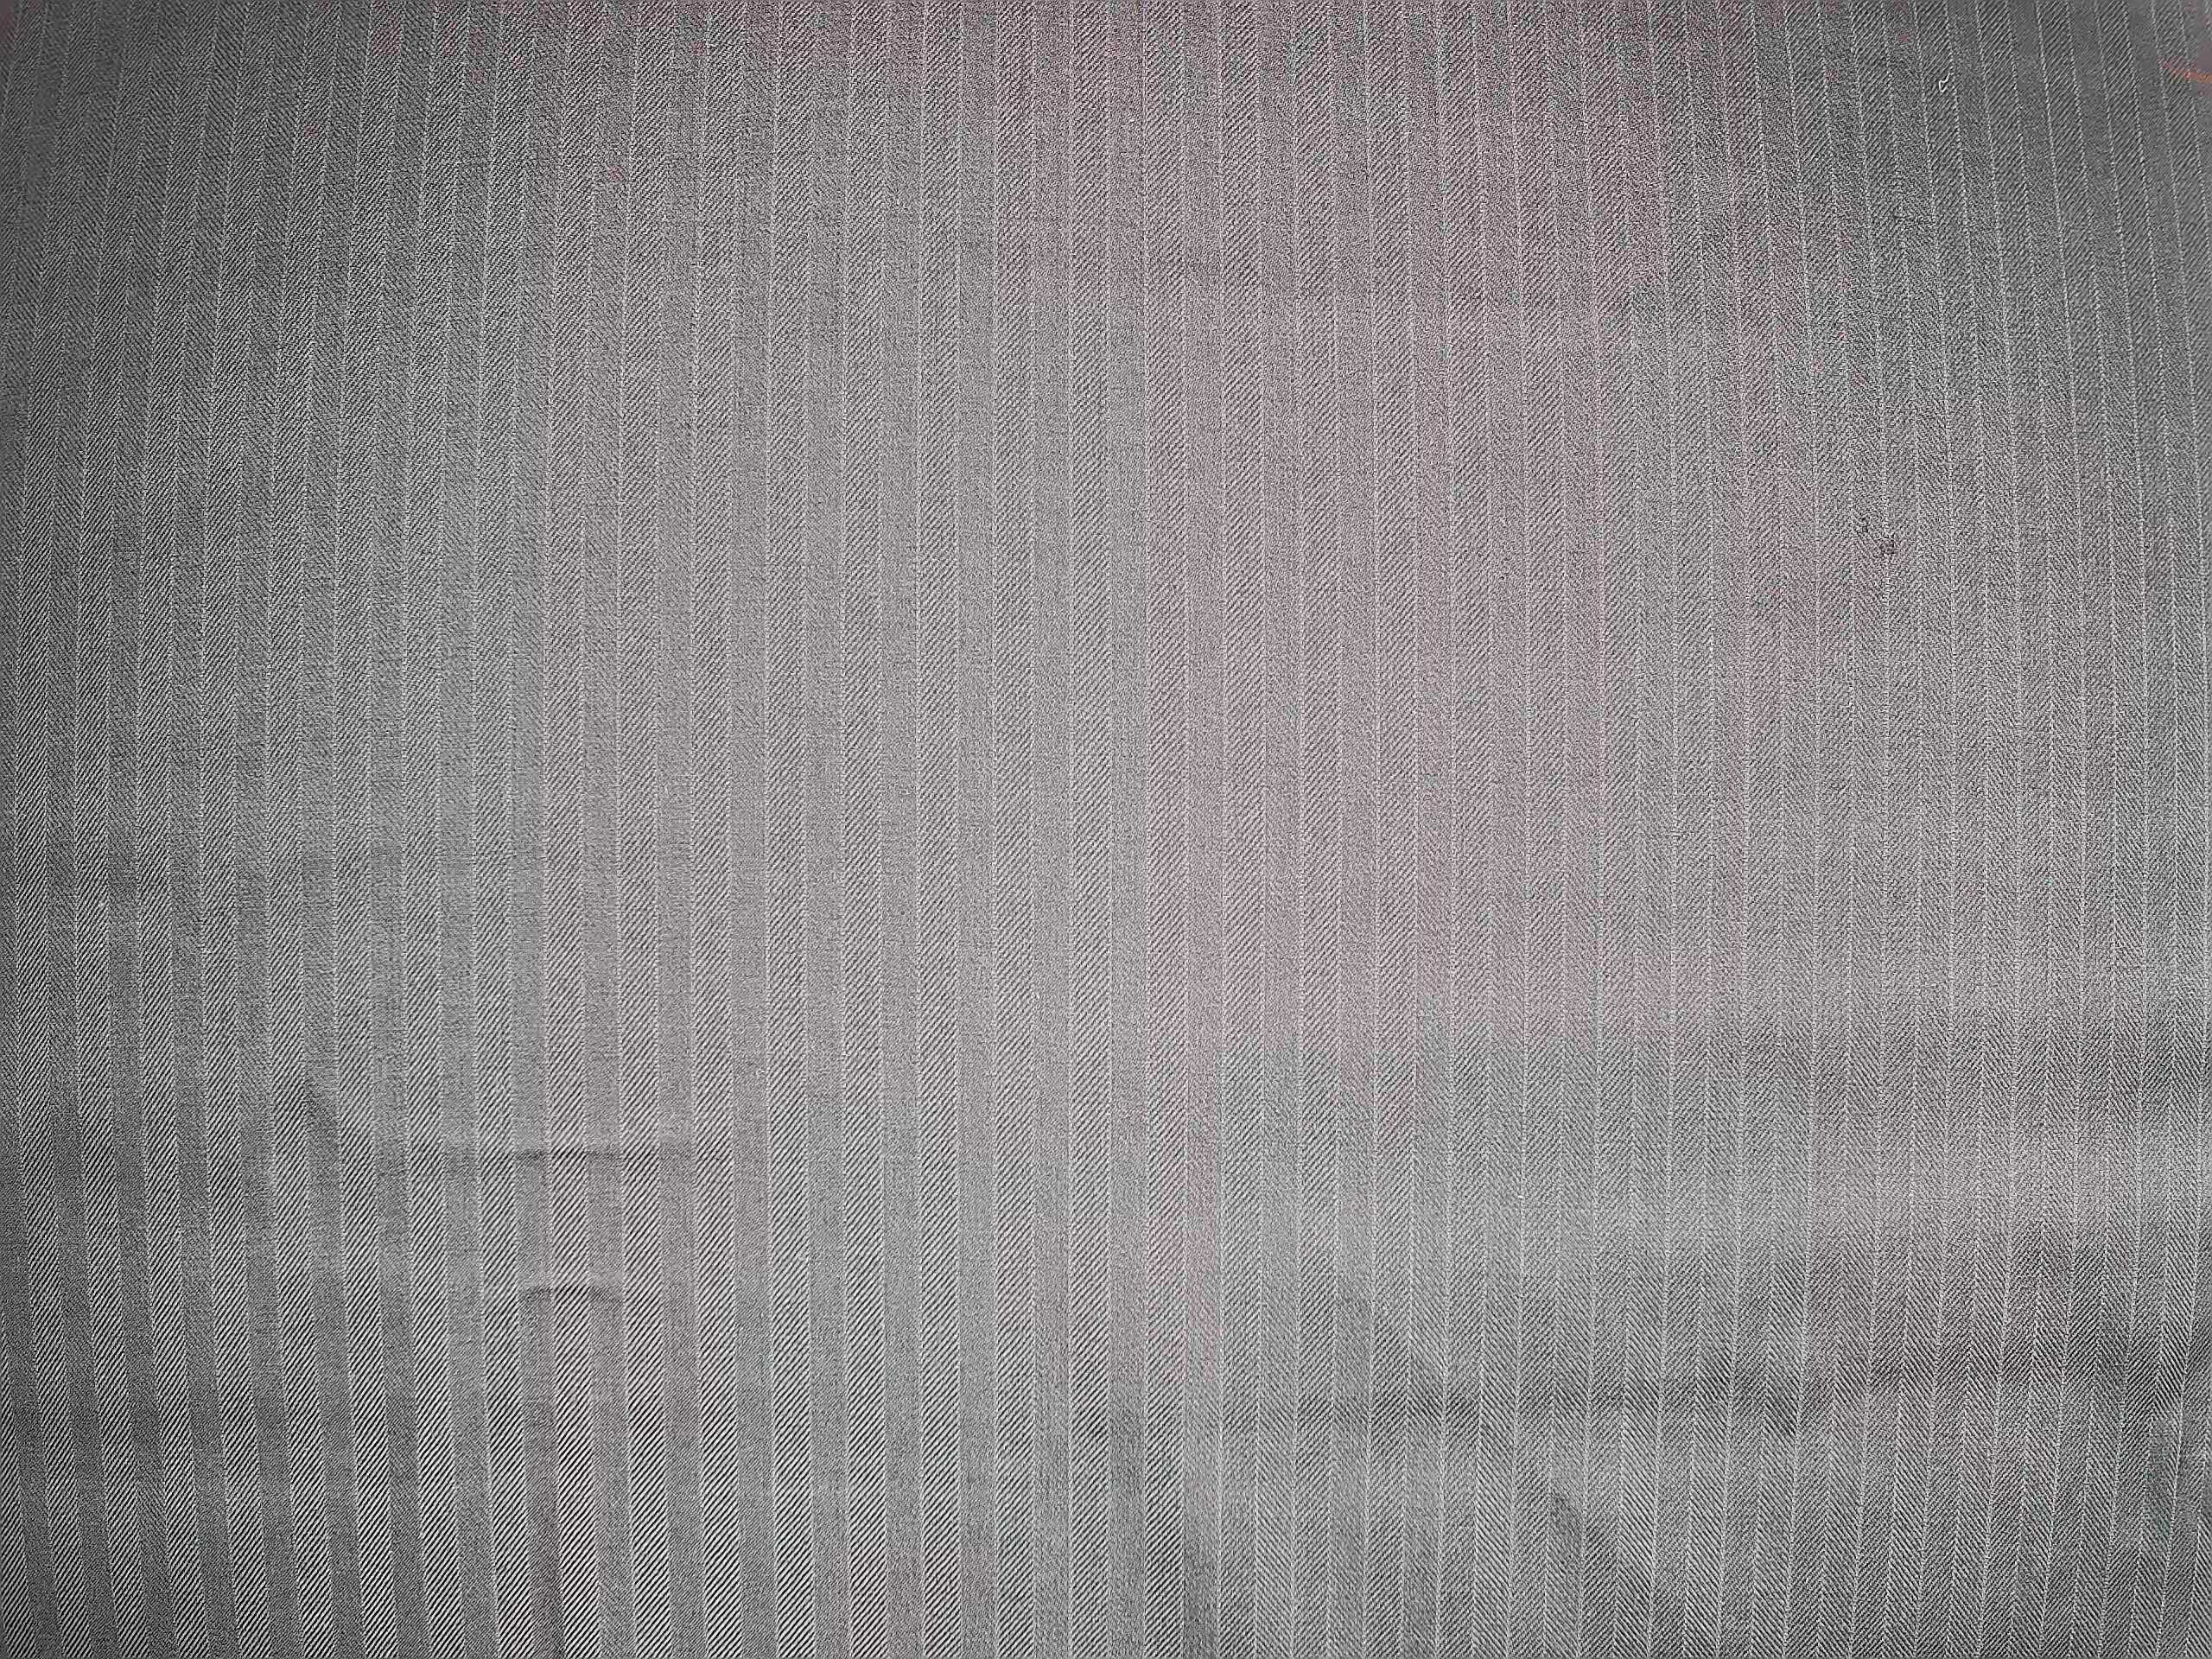rubbing-hole: (1844, 502, 1909, 572)
